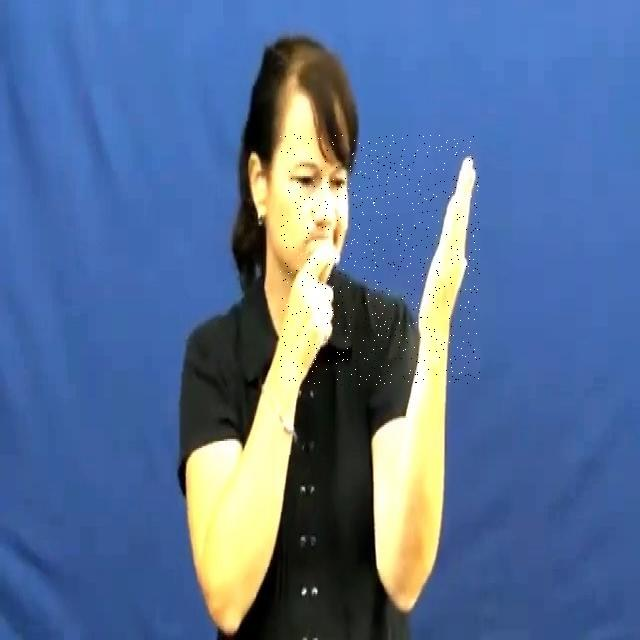menu: (280, 134, 480, 386)
